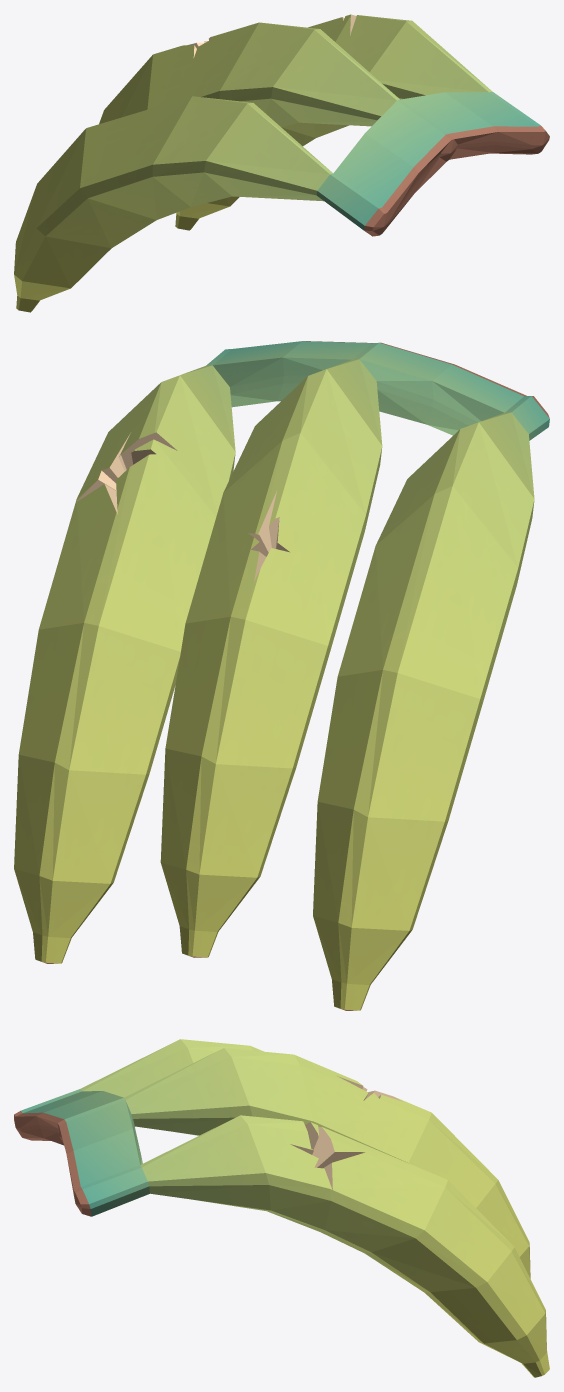
File: SM_Punctured_Banana.fbx
3 views of the same model, one above another, from view 1: azimuth 30°, elevation 25°; view 2: azimuth 150°, elevation 25°; view 3: azimuth 270°, elevation 25° (orthographic). The views are drawn at different scales.
Visible parts, largest first — view 1: SM_Punctured_Banana; view 2: SM_Punctured_Banana; view 3: SM_Punctured_Banana.
Part boxes in pixels (x1=…): SM_Punctured_Banana: x1=14, y1=14, x2=549, y2=312; SM_Punctured_Banana: x1=14, y1=341, x2=549, y2=1010; SM_Punctured_Banana: x1=14, y1=1039, x2=549, y2=1377.
Bounding box in the file's own units: 0.1553 × 0.2246 × 0.1488.
